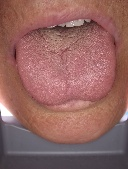tongue: (17, 33, 116, 104)
